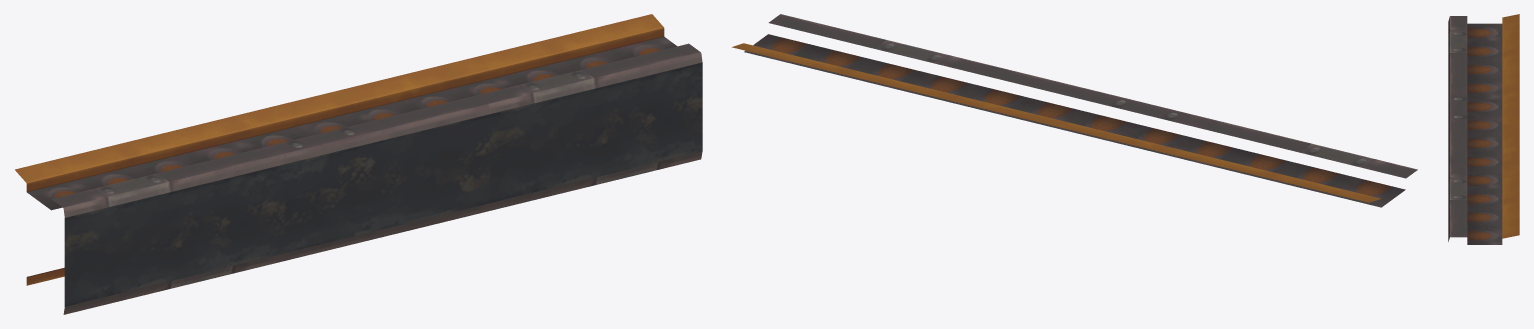
The model's file is conveyor_x6_01.glb.
3 views of the same model, side by side, from view 1: azimuth 30°, elevation 25°; view 2: azimuth 150°, elevation 25°; view 3: azimuth 270°, elevation 25° (orthographic). The views are drawn at different scales.
Visible parts, largest first — view 1: factory.conveyor_x6_01-MeshNodes["belt_on"], factory.conveyor_x6_01-MeshNodes["conveyor_base"]; view 2: factory.conveyor_x6_01-MeshNodes["conveyor_base"]; view 3: factory.conveyor_x6_01-MeshNodes["conveyor_base"].
Part boxes in pixels (left/top/right/bottom): factory.conveyor_x6_01-MeshNodes["belt_on"]: left=64, top=62, right=702, bottom=306; factory.conveyor_x6_01-MeshNodes["conveyor_base"]: left=15, top=14, right=702, bottom=314; factory.conveyor_x6_01-MeshNodes["conveyor_base"]: left=732, top=14, right=1417, bottom=207; factory.conveyor_x6_01-MeshNodes["conveyor_base"]: left=1448, top=14, right=1519, bottom=244.
Bounding box in the file's own units: 6 × 1.01 × 0.82.
2 materials, 2 textured.
